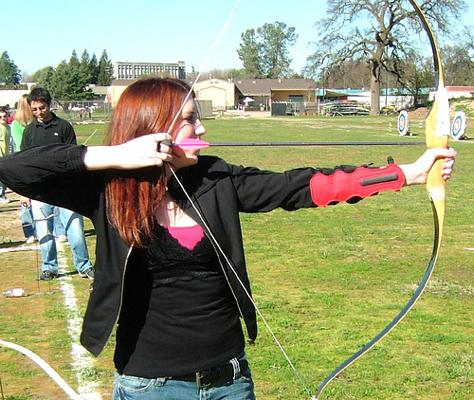person: (1, 77, 460, 400)
